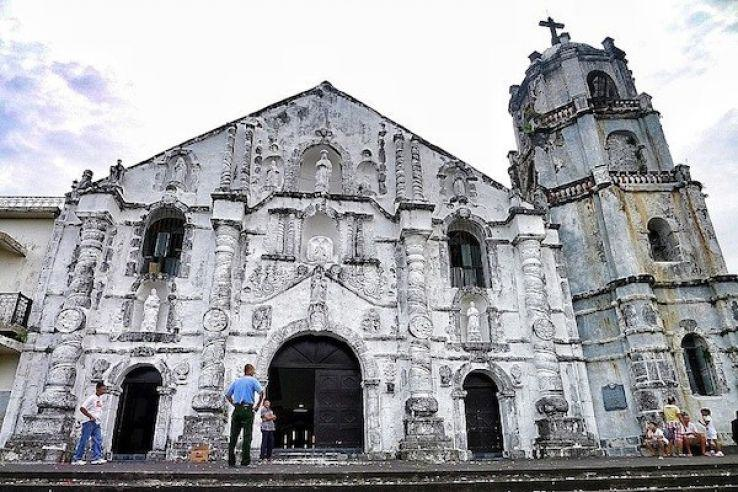daraga_church_daraga_albay: (48, 10, 738, 455)
